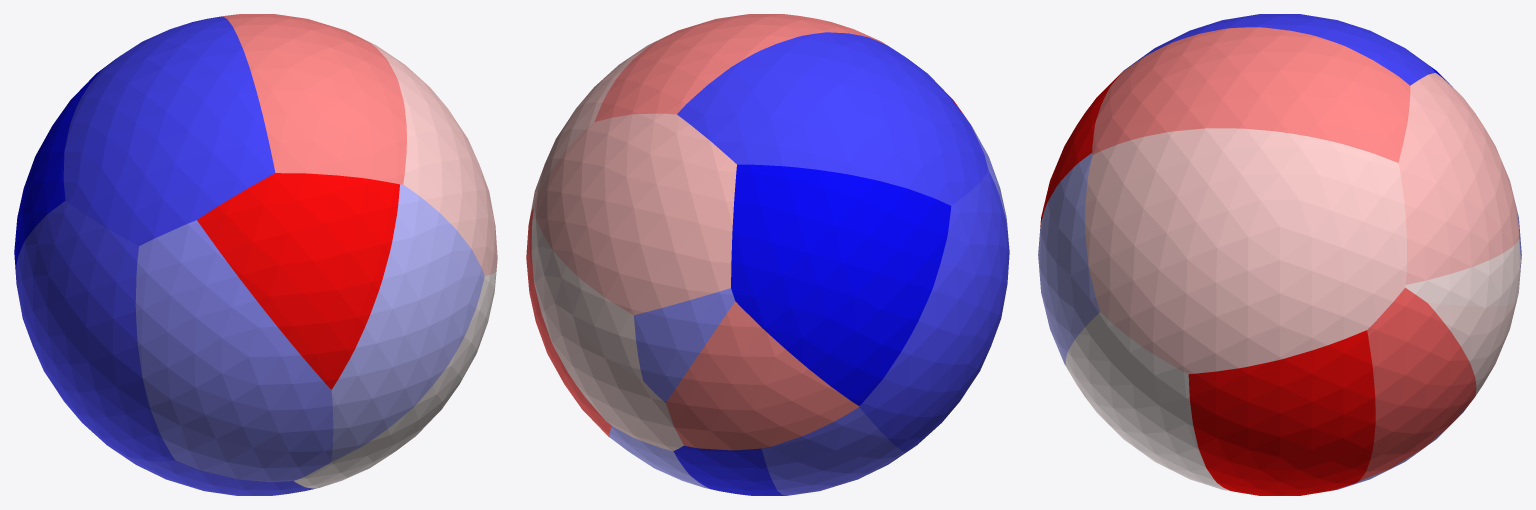
Rendered from Tessellation3DTest.obj.
3 renders of one model, left to right at view 1: azimuth 30°, elevation 25°; view 2: azimuth 150°, elevation 25°; view 3: azimuth 270°, elevation 25°, orthographic.
Visible parts, largest first — view 1: 3D_Object; view 2: 3D_Object; view 3: 3D_Object.
Part boxes in pixels (bbox=[...]): 3D_Object: bbox=[14, 14, 497, 495]; 3D_Object: bbox=[526, 14, 1009, 495]; 3D_Object: bbox=[1038, 14, 1521, 495].
Bounding box in the file's own units: 2 × 2 × 2.
1 material, 1 textured.
